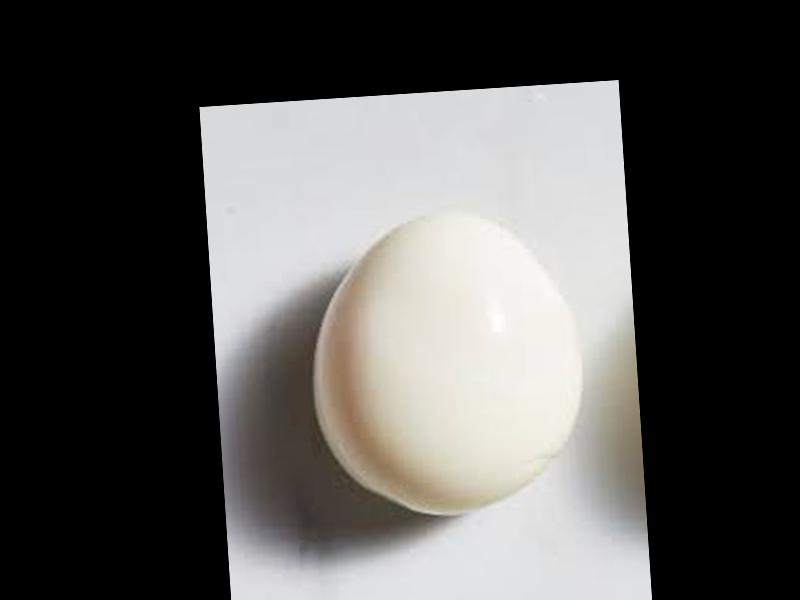Eggs: (303, 207, 590, 524)
